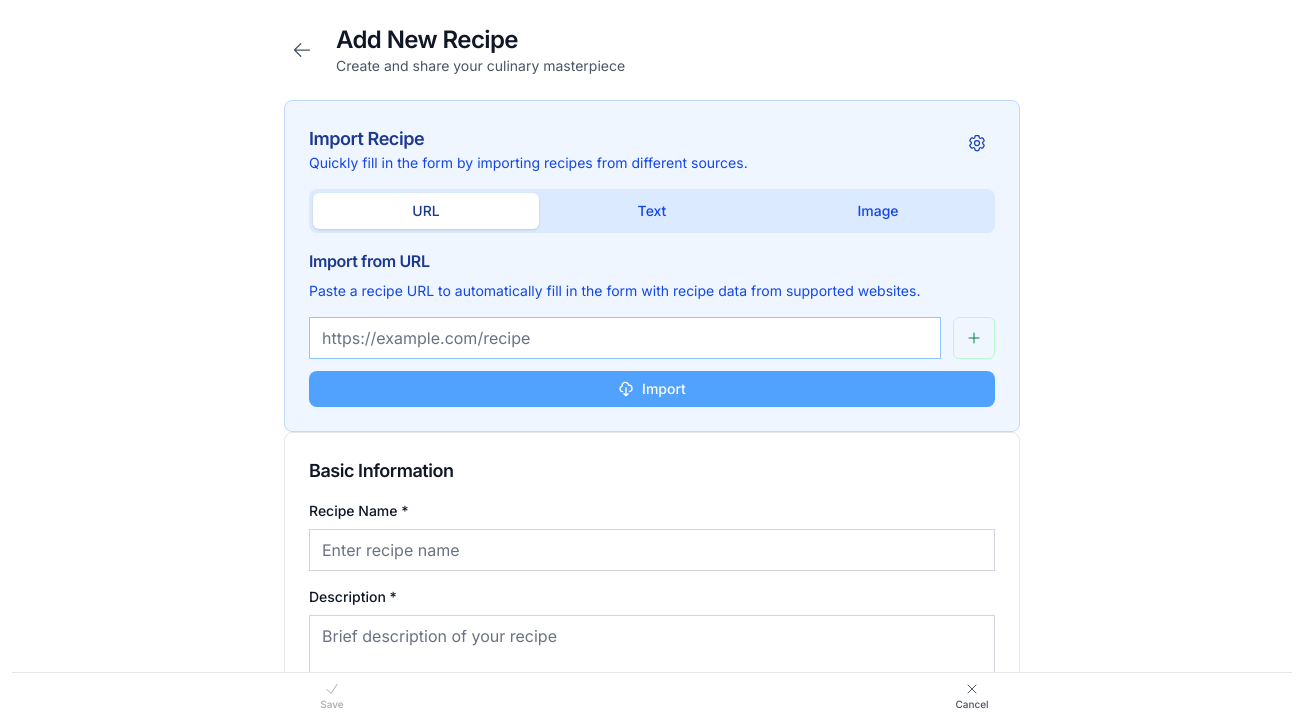
Test case: RecipeFormPage - URL Import Feature › URL Import Functionality › should handle empty URL validation
The width and height of the screenshot is (1304, 720).
// Try to import without URL
Click the button "Import": (652, 389) x1=309 y1=371 x2=995 y2=407
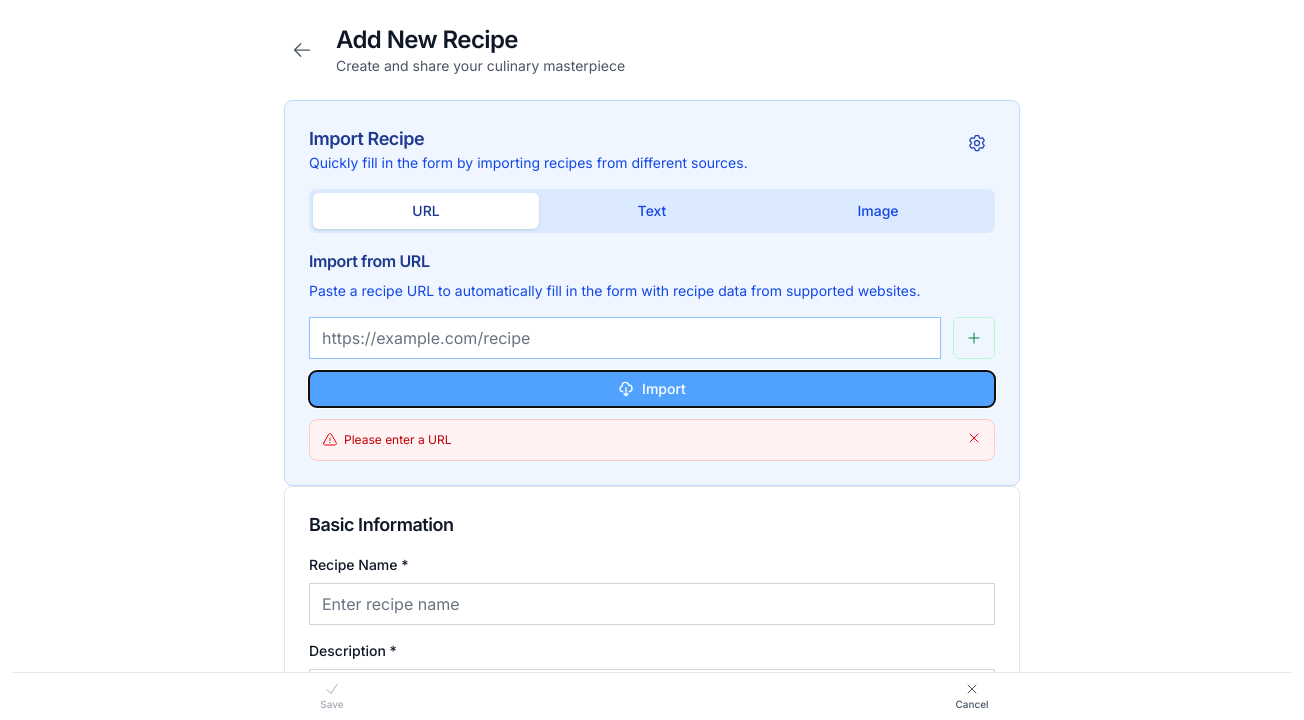
Expected: the text "Please enter a URL" is shown, x1=344 y1=432 x2=452 y2=447
